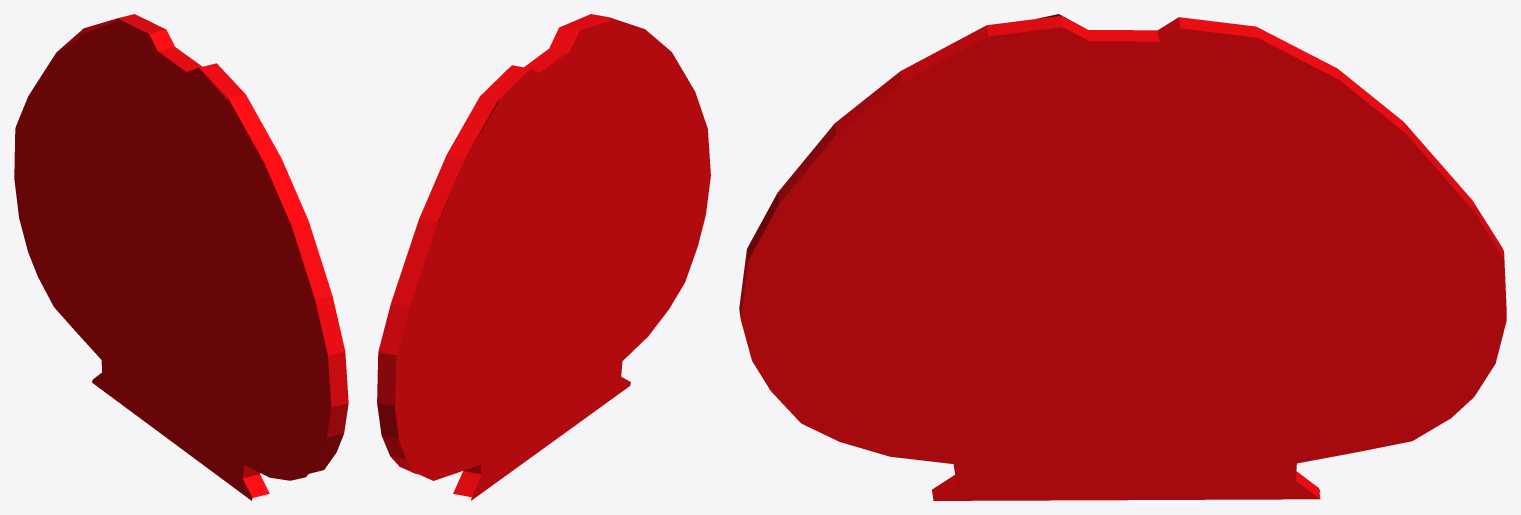
File: kassette_E&MMS-C(red).gltf
The picture shows the model from 3 angles, left to right: view 1: azimuth 30°, elevation 25°; view 2: azimuth 150°, elevation 25°; view 3: azimuth 270°, elevation 25°; orthographic projection. The views are drawn at different scales.
Parts seen in each view (by area): view 1: Circle; view 2: Circle; view 3: Circle.
Boxes of the visible parts, x1,y1,x2,y2 form: Circle: [14, 14, 348, 500]; Circle: [377, 14, 710, 500]; Circle: [739, 14, 1506, 500].
Bounding box in the file's own units: 0.1993 × 3.86 × 5.6.
